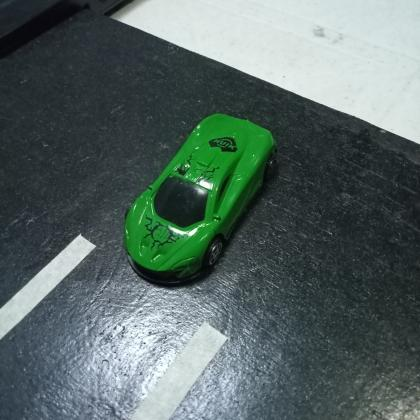Car: (122, 109, 282, 286)
